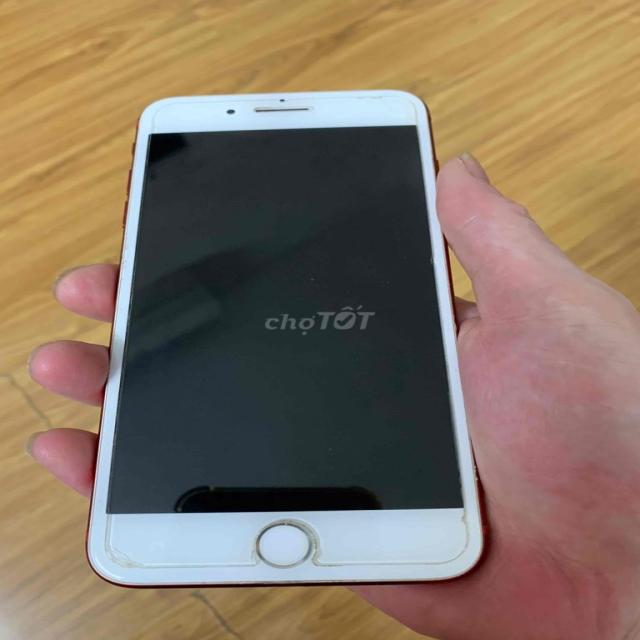gen_7_8: (85, 88, 492, 588)
